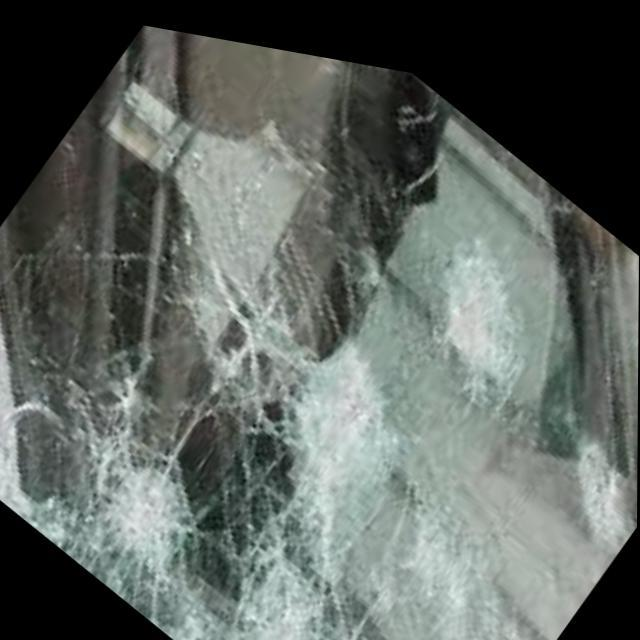glass shatter: (0, 172, 532, 640), (423, 215, 529, 383), (567, 408, 638, 535)
